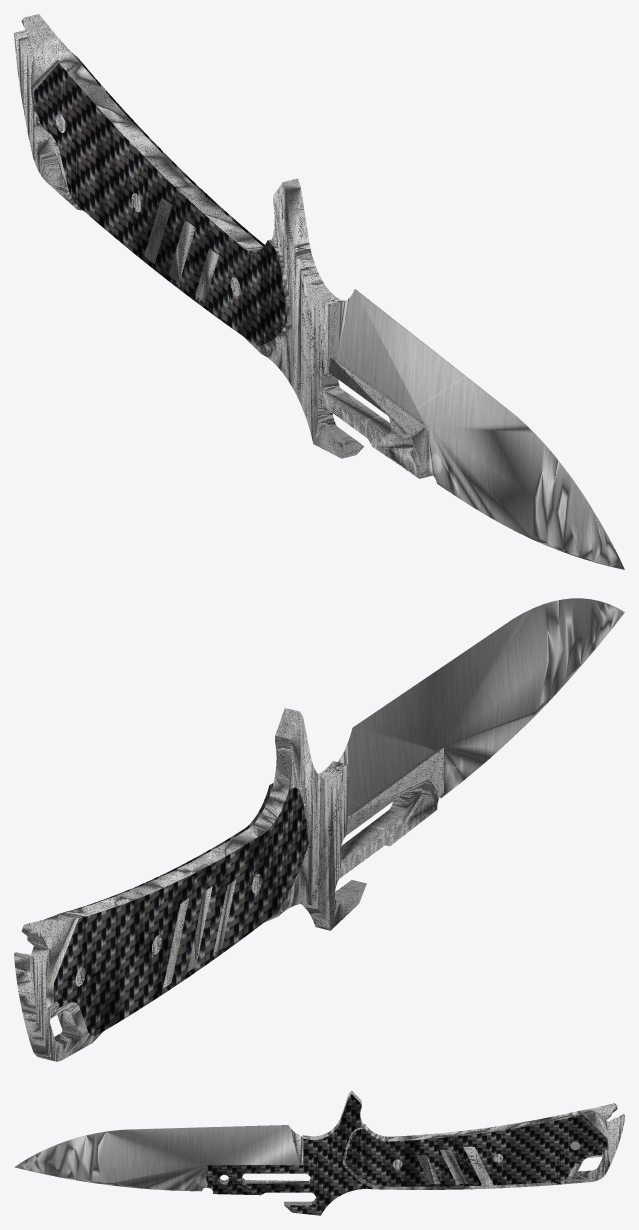
File: model_align.obj
3 views of the same model, one above another, from view 1: azimuth 30°, elevation 25°; view 2: azimuth 150°, elevation 25°; view 3: azimuth 270°, elevation 25° (orthographic). The views are drawn at different scales.
Size of the model in its own units: 0.00404 by 0.0479 by 0.2178.
2 materials, 2 textured.
